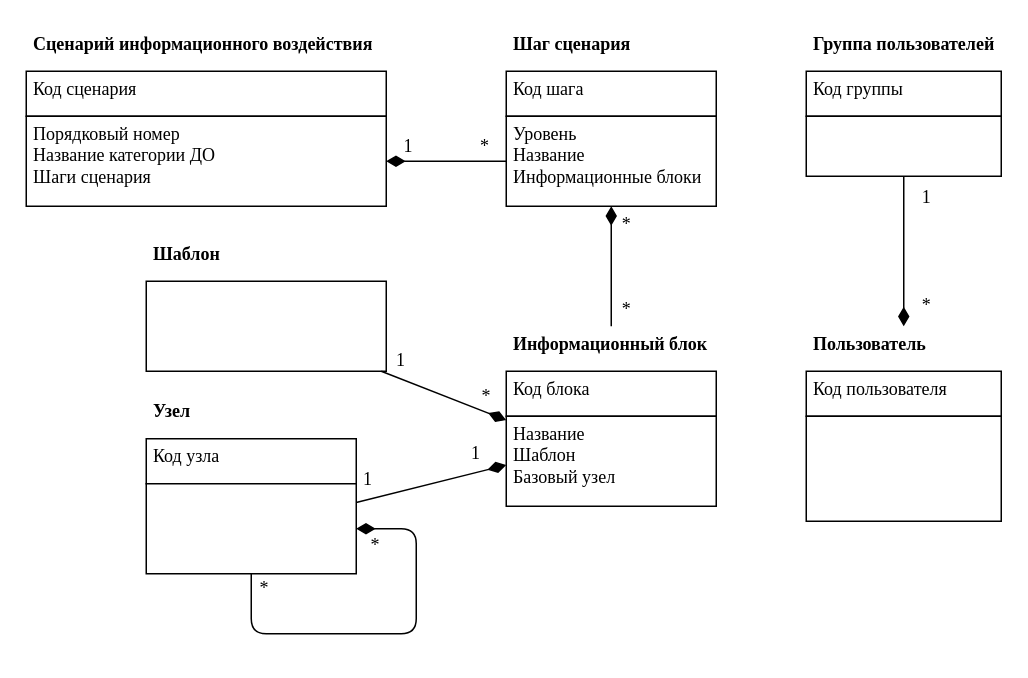
Some shapes in this 1028 by 678 pixel diagram are drawn without their labels. The centre of each missing label's shape, as x and y in pixels:
"Имя Электронная почта Пароль Группа пользователей" goes at (x=903, y=468).
"Максимальная ширина блока Заголовок Путь к изображению" goes at (x=265, y=325).
"Название Доступные действия" goes at (x=903, y=145).
"Уровень сложности Контент Узлы" goes at (x=250, y=528).
